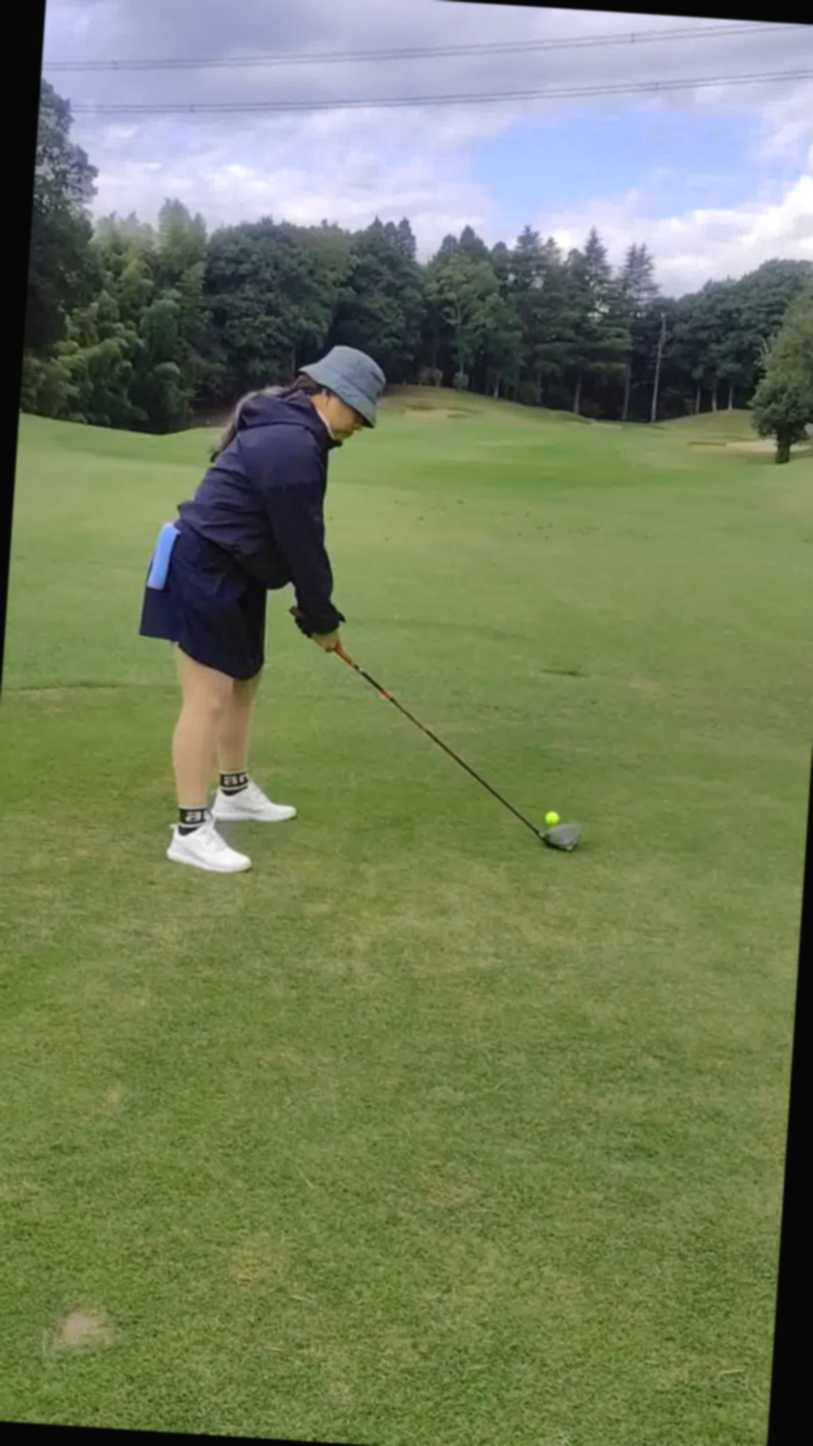clubhead: (504, 790, 634, 893)
